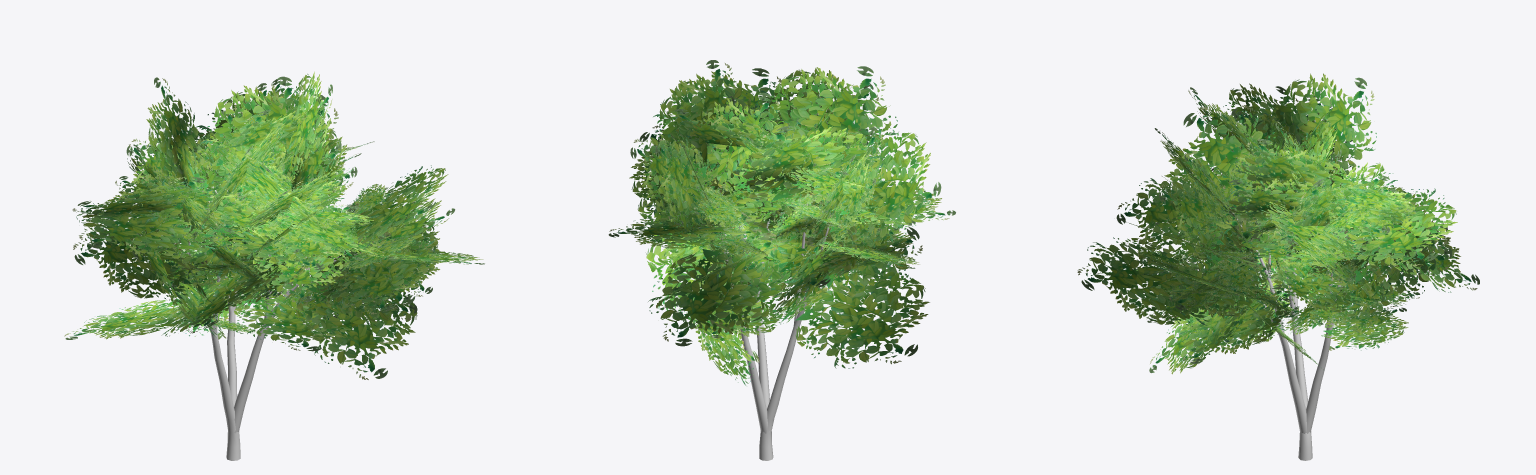
The model's file is Tree.fbx.
The picture shows the model from 3 angles, left to right: view 1: azimuth 30°, elevation 25°; view 2: azimuth 150°, elevation 25°; view 3: azimuth 270°, elevation 25°; orthographic projection. The views are drawn at different scales.
Visible parts, largest first — view 1: Tree; view 2: Tree; view 3: Tree.
Part boxes in pixels (bbox=[...]): Tree: bbox=[64, 71, 484, 460]; Tree: bbox=[608, 60, 955, 460]; Tree: bbox=[1077, 73, 1479, 460].
Size of the model in its own units: 7.28 by 6.62 by 7.56.
